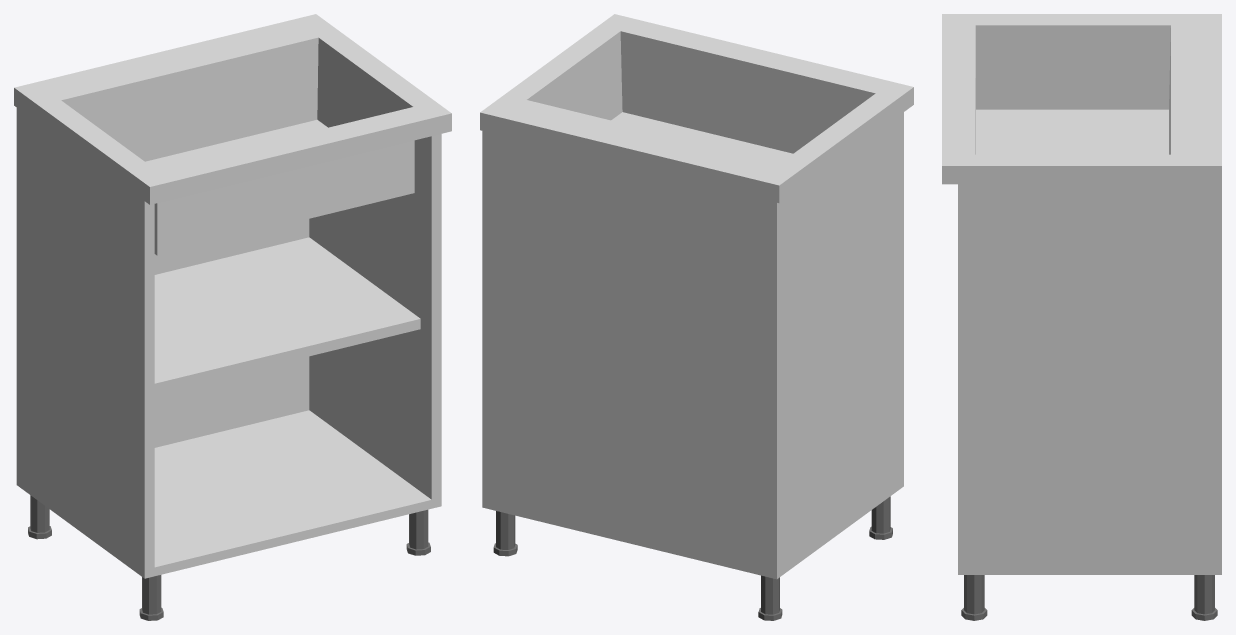
File: Bathroom_C1_01.fbx
The picture shows the model from 3 angles, left to right: view 1: azimuth 30°, elevation 25°; view 2: azimuth 150°, elevation 25°; view 3: azimuth 270°, elevation 25°; orthographic projection. The views are drawn at different scales.
Parts seen in each view (by area): view 1: Bathroom_C1_01; view 2: Bathroom_C1_01; view 3: Bathroom_C1_01.
Part boxes in pixels (x1,y1,x2,y2): Bathroom_C1_01: (14,14,451,620); Bathroom_C1_01: (480,14,913,620); Bathroom_C1_01: (942,14,1221,620).
Bounding box in the file's own units: 61 × 85.82 × 47.51.
